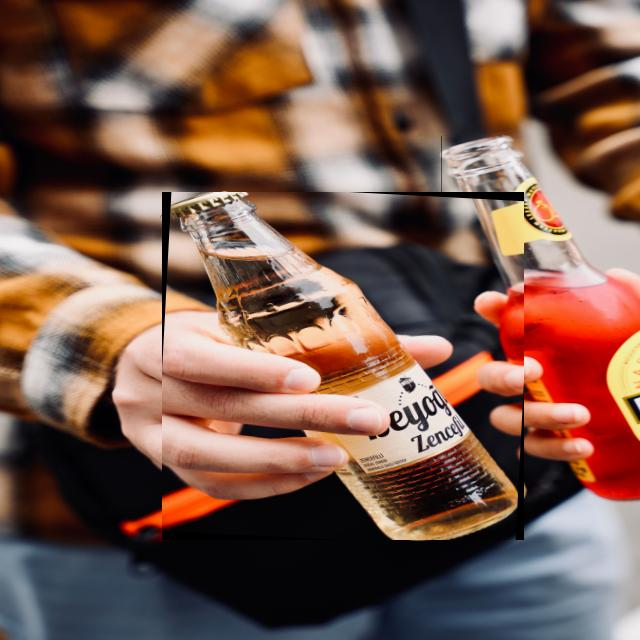Bottle: (163, 192, 524, 539), (442, 137, 639, 499)
